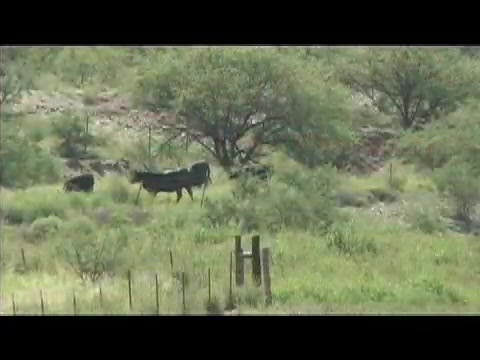cow: (133, 169, 197, 204), (191, 160, 213, 197), (64, 174, 97, 196)
